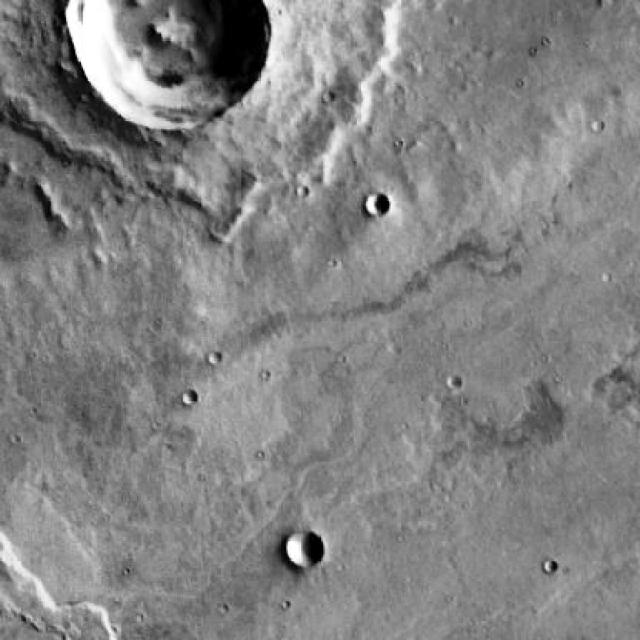crater: (71, 0, 267, 131), (286, 533, 323, 567), (364, 191, 390, 215)
